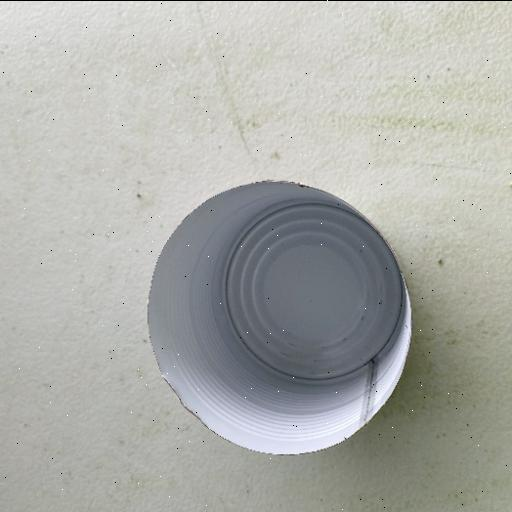Metal: (144, 176, 414, 456)
